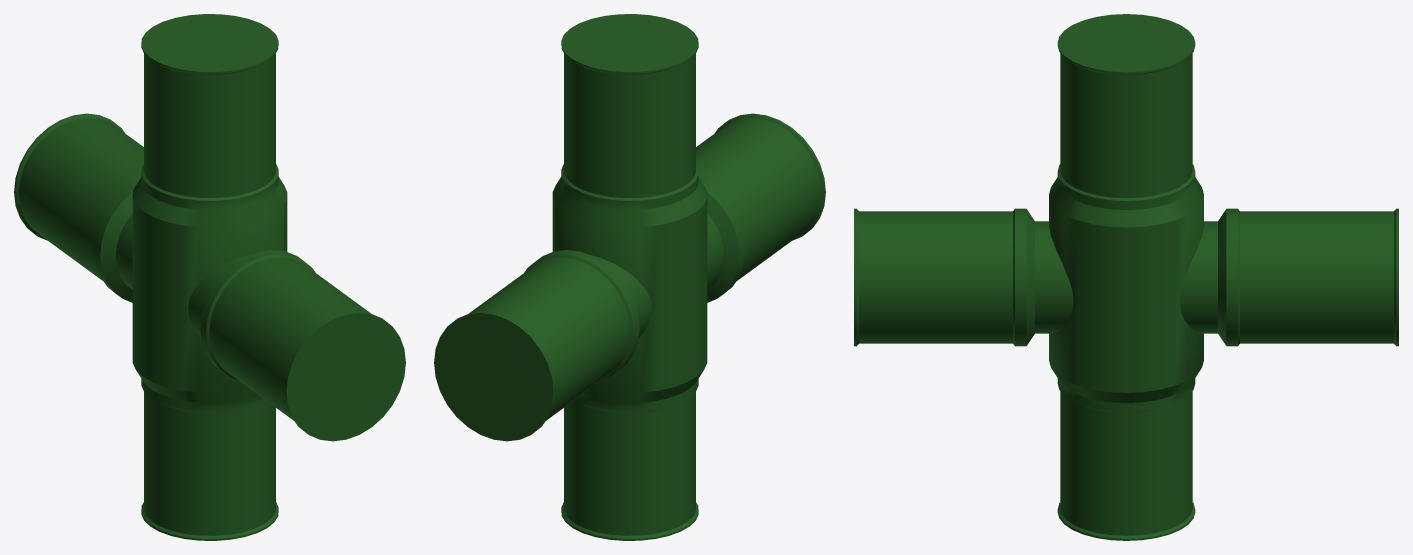
File: Pipe_X-Turn_16cm.fbx
3 views of the same model, side by side, from view 1: azimuth 30°, elevation 25°; view 2: azimuth 150°, elevation 25°; view 3: azimuth 270°, elevation 25° (orthographic).
Visible parts, largest first — view 1: Pipe_X-Turn_16cm; view 2: Pipe_X-Turn_16cm; view 3: Pipe_X-Turn_16cm.
Boxes of the visible parts, x1=… form: Pipe_X-Turn_16cm: x1=14, y1=14, x2=405, y2=540; Pipe_X-Turn_16cm: x1=434, y1=14, x2=825, y2=540; Pipe_X-Turn_16cm: x1=854, y1=14, x2=1398, y2=540.
Size of the model in its own units: 18 by 60 by 63.2.
